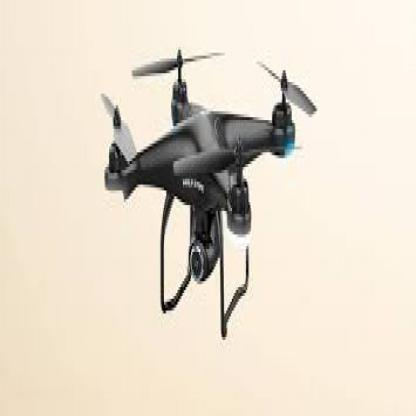UAS: (102, 50, 317, 339)
